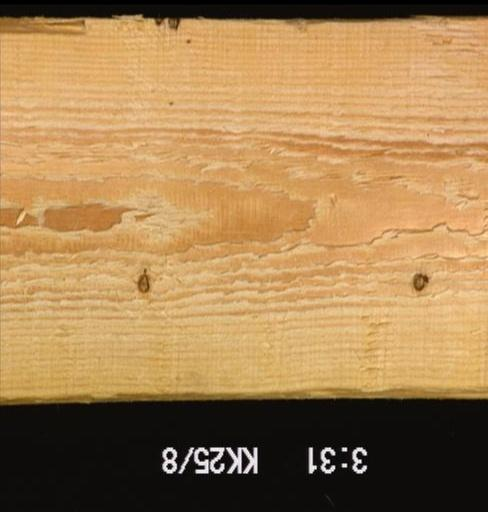dry_knot: (411, 271, 429, 291), (137, 272, 151, 293)
edge_knot: (168, 17, 180, 30), (153, 16, 164, 25)
wave: (293, 376, 486, 399), (0, 18, 90, 41)
